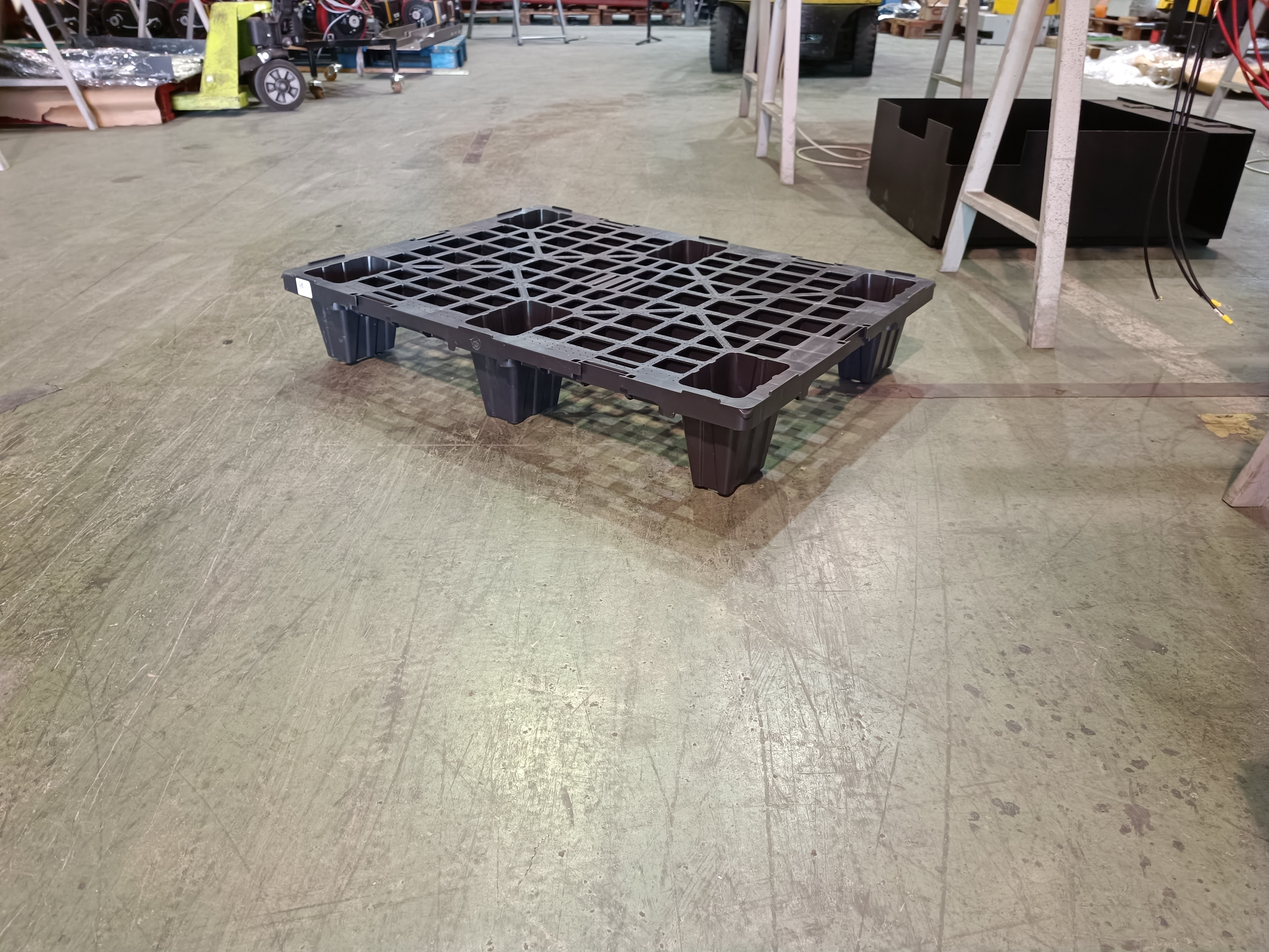block: (688, 405, 777, 495), (478, 355, 574, 421), (313, 299, 397, 367), (839, 317, 906, 387)
front: (287, 269, 754, 527)
hole pallet: (520, 364, 689, 480), (354, 310, 483, 415)
